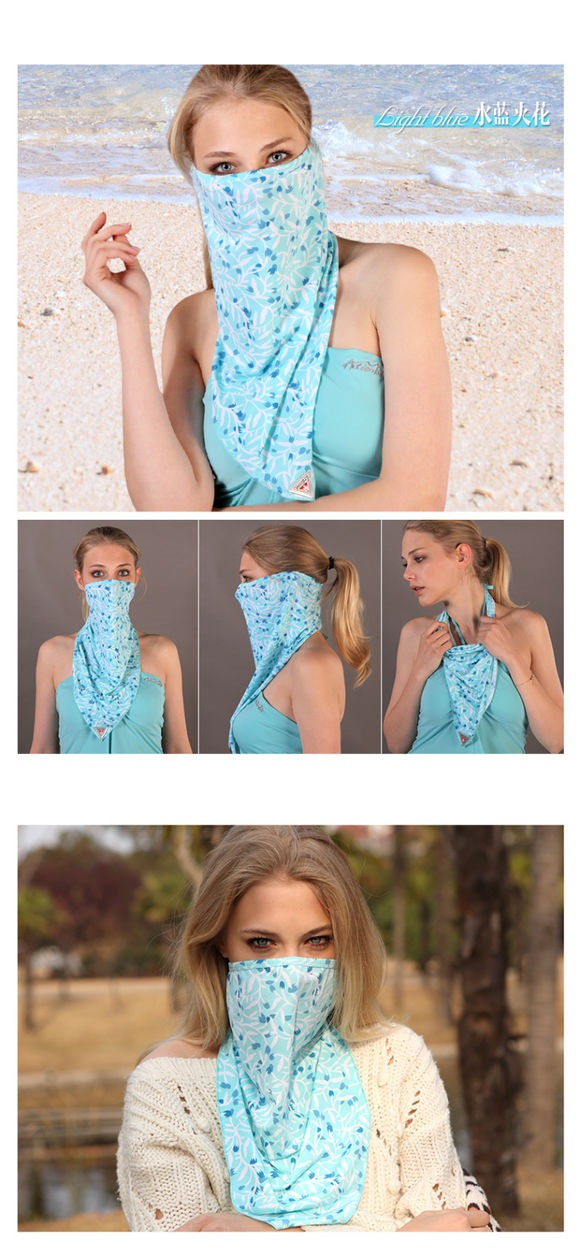face_mask: (226, 869, 333, 1052), (190, 98, 306, 239), (400, 520, 453, 608), (83, 538, 133, 614), (234, 549, 277, 620)
